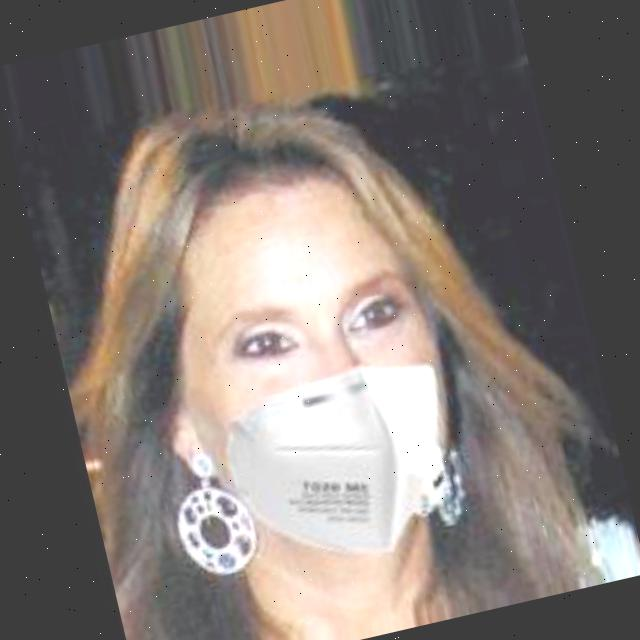suspicion: (110, 130, 507, 608)
